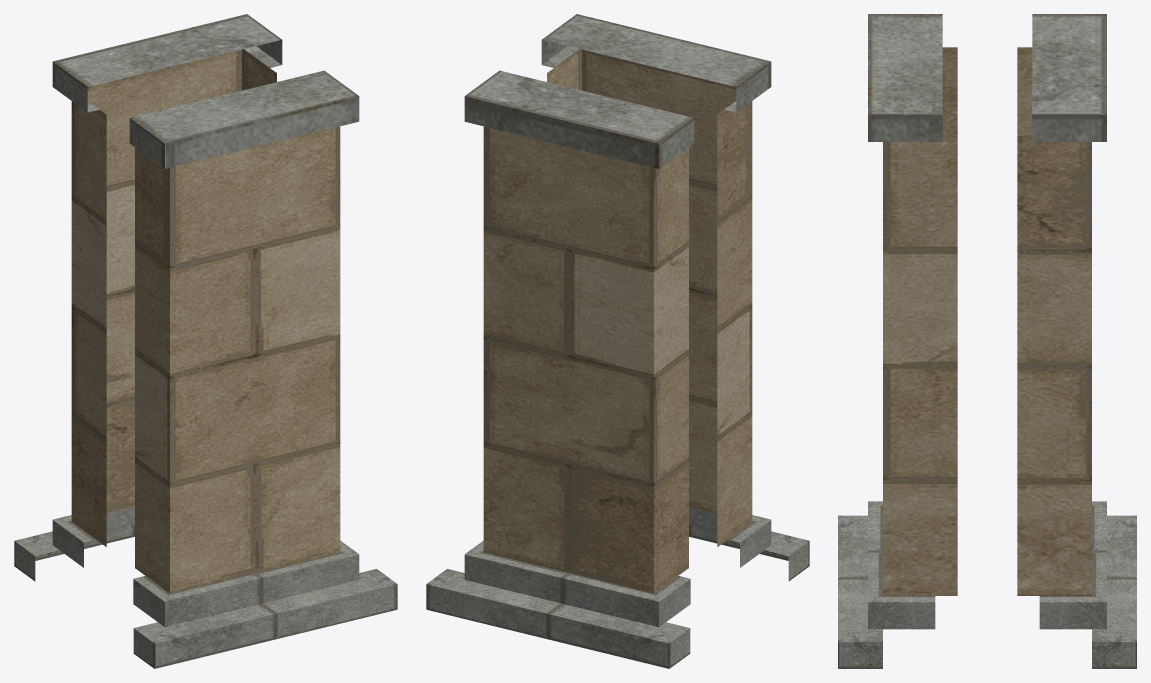
Rendered from pillar_buttress.fbx.
3 renders of one model, left to right at view 1: azimuth 30°, elevation 25°; view 2: azimuth 150°, elevation 25°; view 3: azimuth 270°, elevation 25°, orthographic. The views are drawn at different scales.
Visible parts, largest first — view 1: pillar_buttress; view 2: pillar_buttress; view 3: pillar_buttress.
Boxes of the visible parts, bbox=[...] form: pillar_buttress: bbox=[14, 14, 397, 668]; pillar_buttress: bbox=[426, 14, 809, 668]; pillar_buttress: bbox=[838, 14, 1136, 668].
Bounding box in the file's own units: 100 × 200 × 100.
